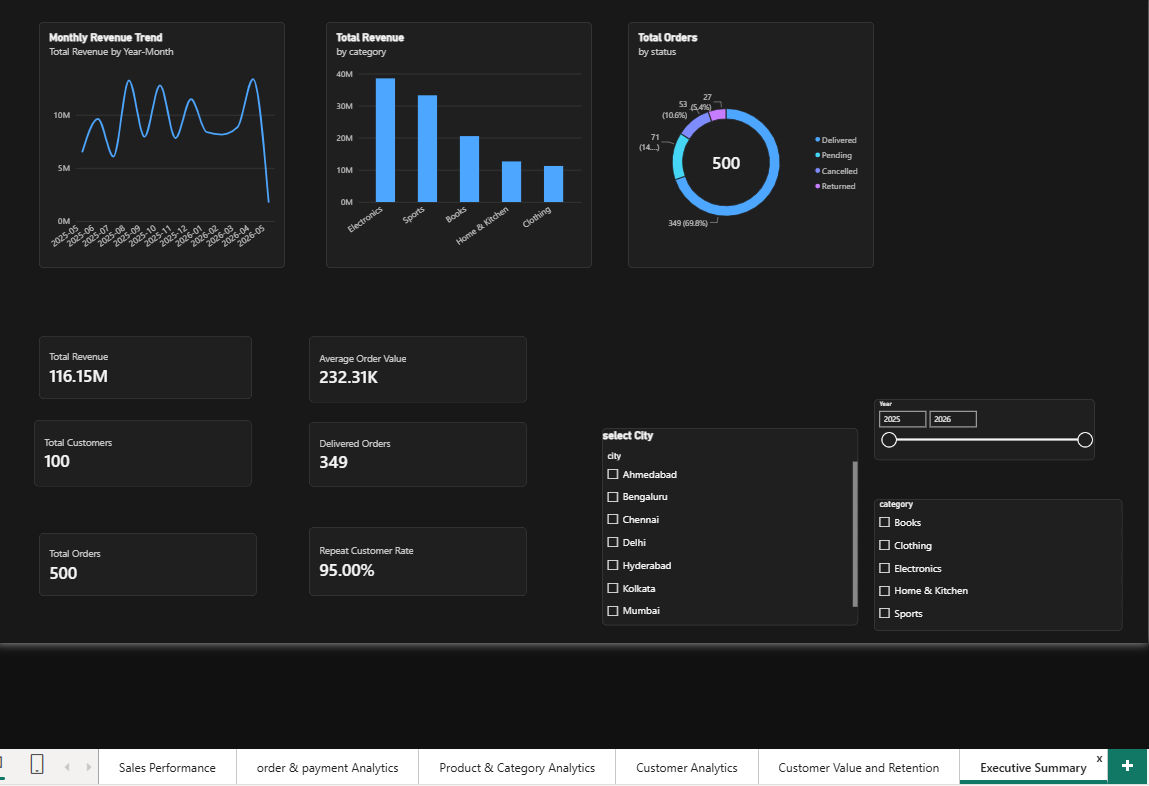

This screenshot's page, from the dashboard's own definition file:
{"tool":"powerbi","page":{"name":"Executive Summary ","canvas":[1920,1080],"ordinal":5},"visuals":[{"type":"lineChart","title":"Monthly Revenue Trend","fields":{"Category":["DateTable.Year-Month"],"Y":["DateTable.Total Revenue"]},"box":[71.7,45,410,410],"z":0},{"type":"columnChart","fields":{"Category":["products.category"],"Y":["DateTable.Total Revenue"]},"box":[550,45,443.3,410],"z":1000},{"type":"donutChart","fields":{"Category":["orders.status"],"Y":["DateTable.Total Orders"]},"box":[1053.3,45,410,410],"z":2000},{"type":"slicer","fields":{"Values":["DateTable.Year"]},"box":[1463.3,673.3,368.3,101.7],"z":2001},{"type":"slicer","fields":{"Values":["products.category"]},"box":[1463.3,840,414.3,220],"z":2002},{"type":"slicer","title":"select City","fields":{"Values":["customers.city"]},"box":[1010,721.7,427.1,328.6],"z":2003},{"type":"cardVisual","fields":{"Data":["DateTable.Total Revenue"]},"box":[71.7,568.3,355,105],"z":2004},{"type":"cardVisual","fields":{"Data":["DateTable.Total Orders"]},"box":[71.7,896.7,363.3,105],"z":2005},{"type":"cardVisual","fields":{"Data":["DateTable.Total Customers"]},"box":[63.3,708.3,363.3,111.7],"z":2006},{"type":"cardVisual","fields":{"Data":["DateTable.Average Order Value"]},"box":[521.7,568.3,363.3,111.7],"z":2007},{"type":"cardVisual","fields":{"Data":["DateTable.Repeat Customer Rate"]},"box":[521.7,886.7,363.3,115],"z":2008},{"type":"cardVisual","fields":{"Data":["DateTable.Delivered Orders"]},"box":[521.7,711.7,363.3,108.3],"z":2009}]}

Visuals, with their boxes on the page's 1920x1080 design canvas (x1, y1, x2, y2). These are canvas units, not pixel positions in the 1149x786 screenshot, which may show the page scaled, cropped or inside an application window:
"Monthly Revenue Trend" lineChart: bbox=[72, 45, 482, 455]
columnChart - products.category x DateTable.Total Revenue: bbox=[550, 45, 993, 455]
donutChart - orders.status x DateTable.Total Orders: bbox=[1053, 45, 1463, 455]
slicer - DateTable.Year: bbox=[1463, 673, 1832, 775]
slicer - products.category: bbox=[1463, 840, 1878, 1060]
"select City" slicer: bbox=[1010, 722, 1437, 1050]
cardVisual - DateTable.Total Revenue: bbox=[72, 568, 427, 673]
cardVisual - DateTable.Total Orders: bbox=[72, 897, 435, 1002]
cardVisual - DateTable.Total Customers: bbox=[63, 708, 427, 820]
cardVisual - DateTable.Average Order Value: bbox=[522, 568, 885, 680]
cardVisual - DateTable.Repeat Customer Rate: bbox=[522, 887, 885, 1002]
cardVisual - DateTable.Delivered Orders: bbox=[522, 712, 885, 820]
